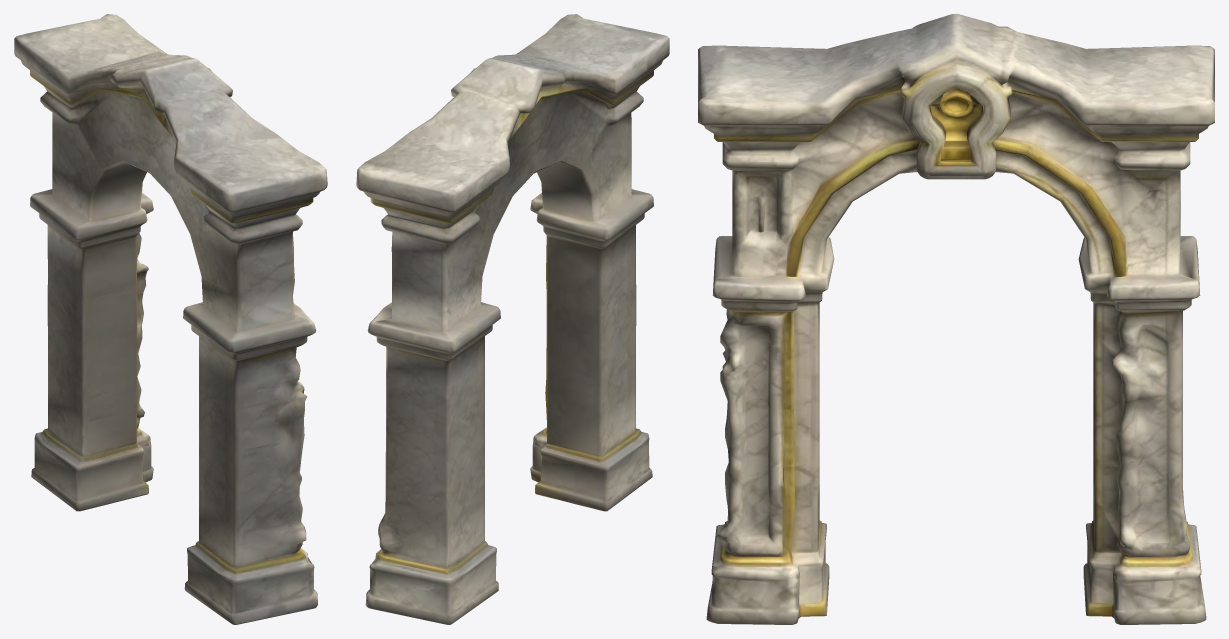
File: env_skygate.glb
3 views of the same model, side by side, from view 1: azimuth 30°, elevation 25°; view 2: azimuth 150°, elevation 25°; view 3: azimuth 270°, elevation 25° (orthographic). The views are drawn at different scales.
Parts seen in each view (by area): view 1: tripo_node_f3e1627f-82a9-4b54-b118-a7597943884d; view 2: tripo_node_f3e1627f-82a9-4b54-b118-a7597943884d; view 3: tripo_node_f3e1627f-82a9-4b54-b118-a7597943884d.
Part boxes in pixels (x1=…): tripo_node_f3e1627f-82a9-4b54-b118-a7597943884d: x1=14, y1=14, x2=327, y2=624; tripo_node_f3e1627f-82a9-4b54-b118-a7597943884d: x1=356, y1=14, x2=669, y2=624; tripo_node_f3e1627f-82a9-4b54-b118-a7597943884d: x1=698, y1=14, x2=1214, y2=624.
Size of the model in its own units: 0.223 by 1 by 0.8238.
Materials: 1 (1 with a texture image).
